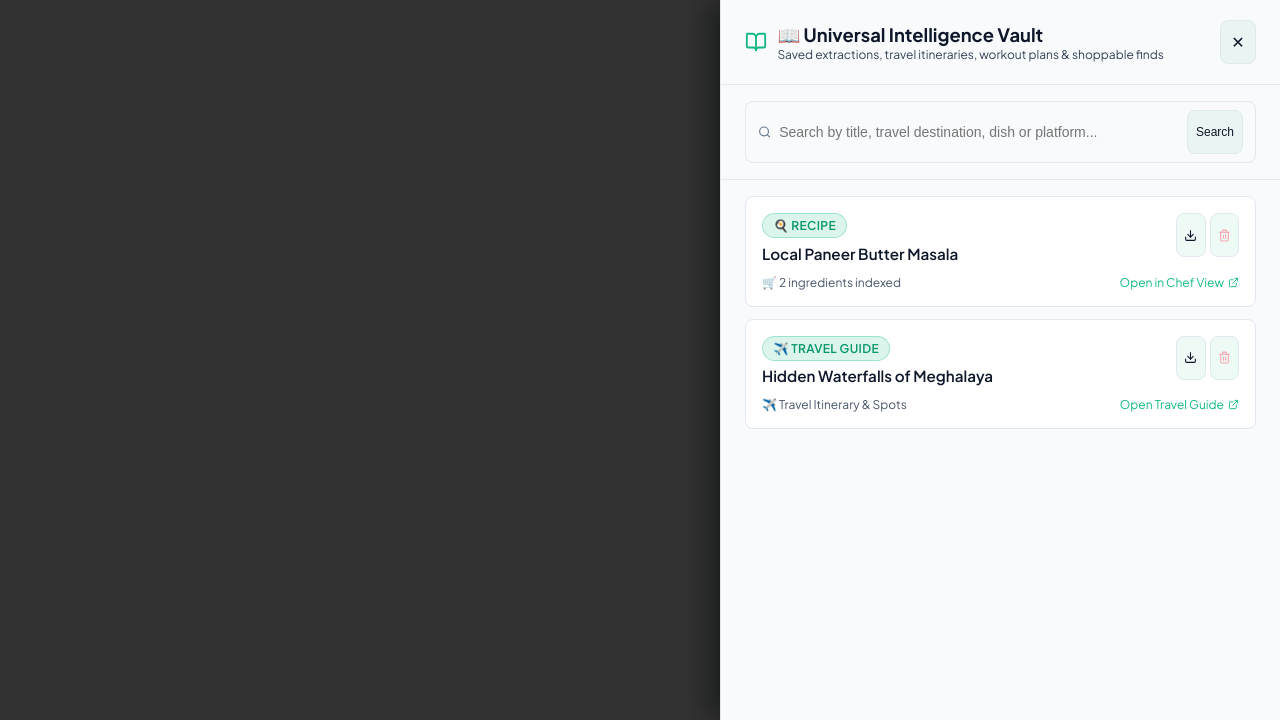
Test: VaultLibrary Component (UPA-1209) › filters items when user enters a search query
The image size is (1280, 720).
Expected: the heading "Local Paneer Butter Masala" is shown, x1=762 y1=244 x2=958 y2=263
Type "Meghalaya" into the field with placeholder "Search by title, travel destination, dish or platform..." at (979, 132), box x1=779 y1=124 x2=1179 y2=140
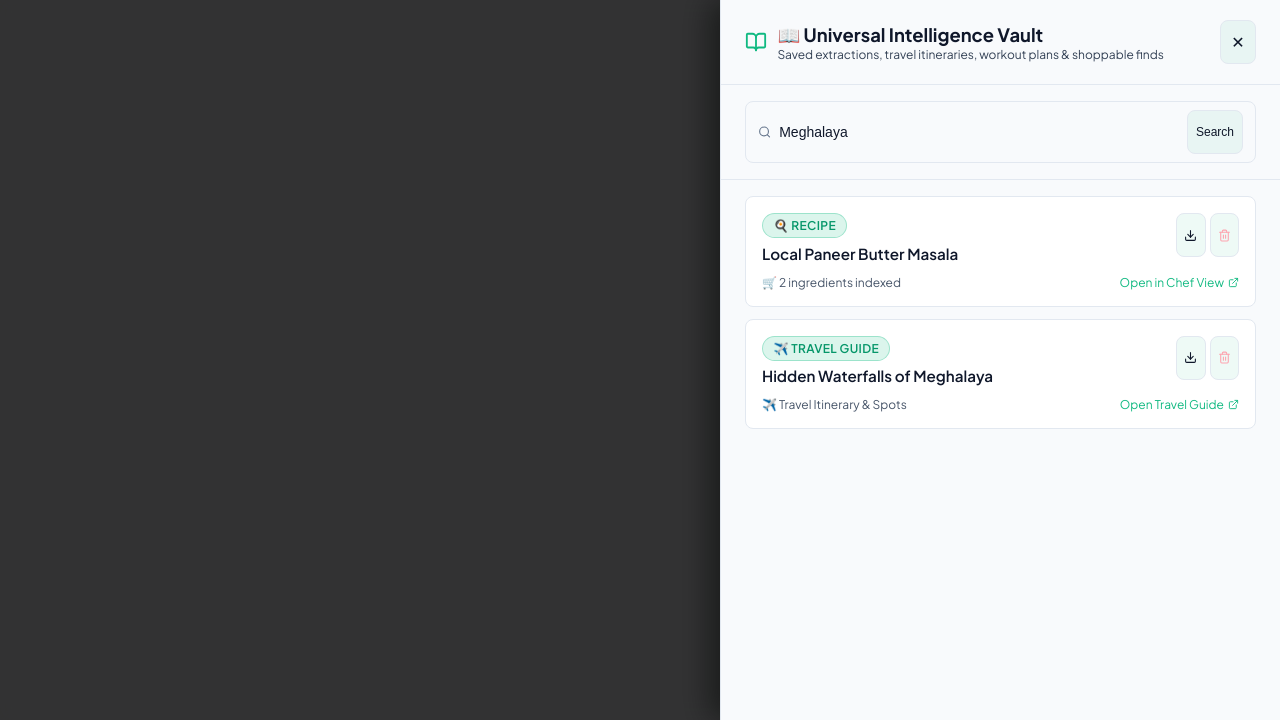
Press Enter in the field with placeholder "Search by title, travel destination, dish or platform...", box x1=779 y1=124 x2=1179 y2=140
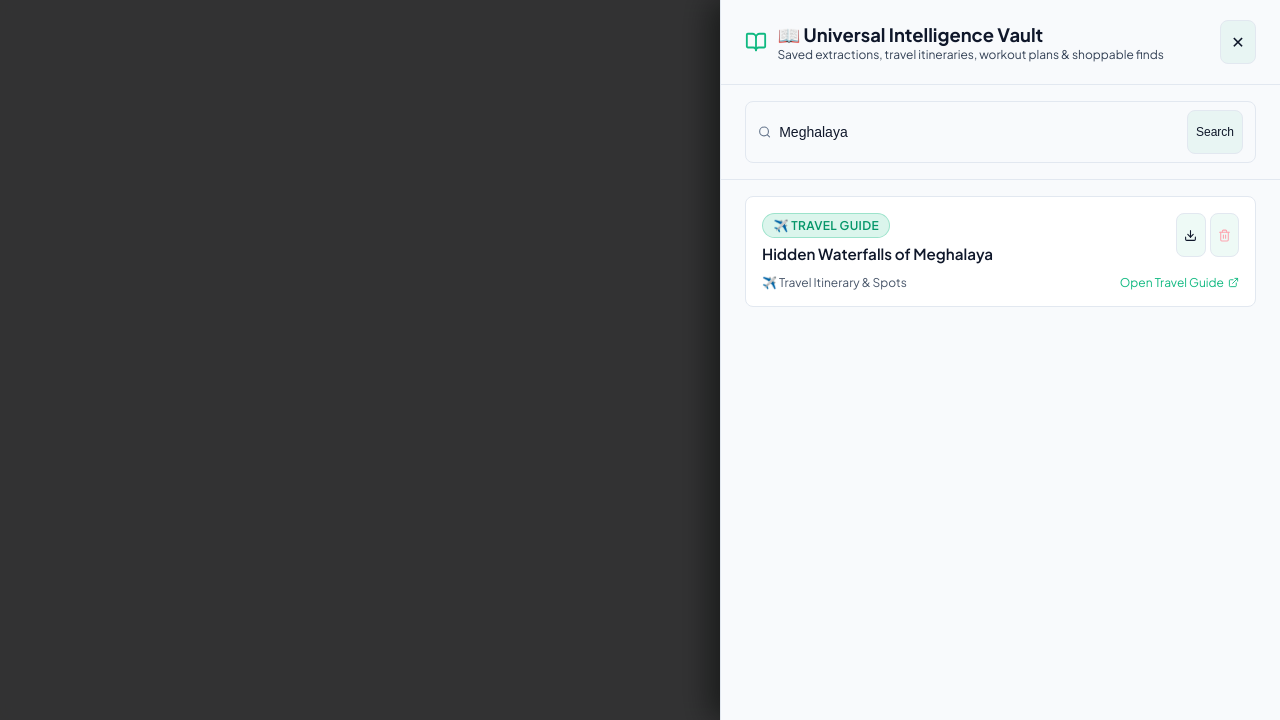
Expected: the heading "Hidden Waterfalls of Meghalaya" is shown, x1=762 y1=244 x2=993 y2=263
Expected: the heading "Local Paneer Butter Masala" is gone
